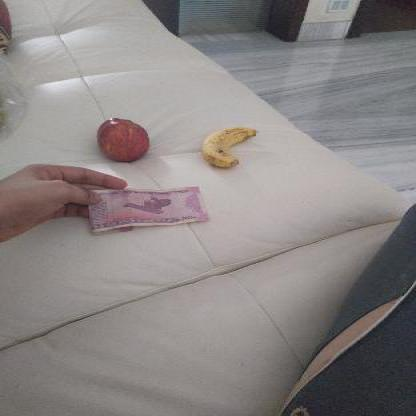New2000Back: (93, 187, 203, 227)
